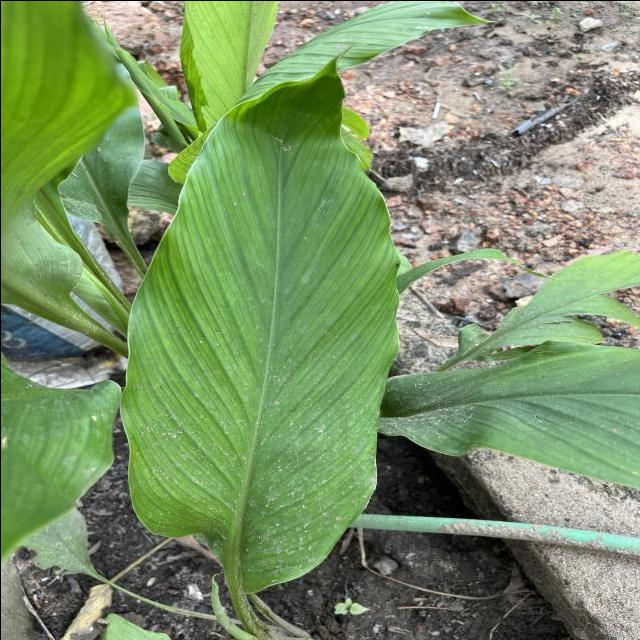Curcuma longa: (114, 35, 404, 599)
